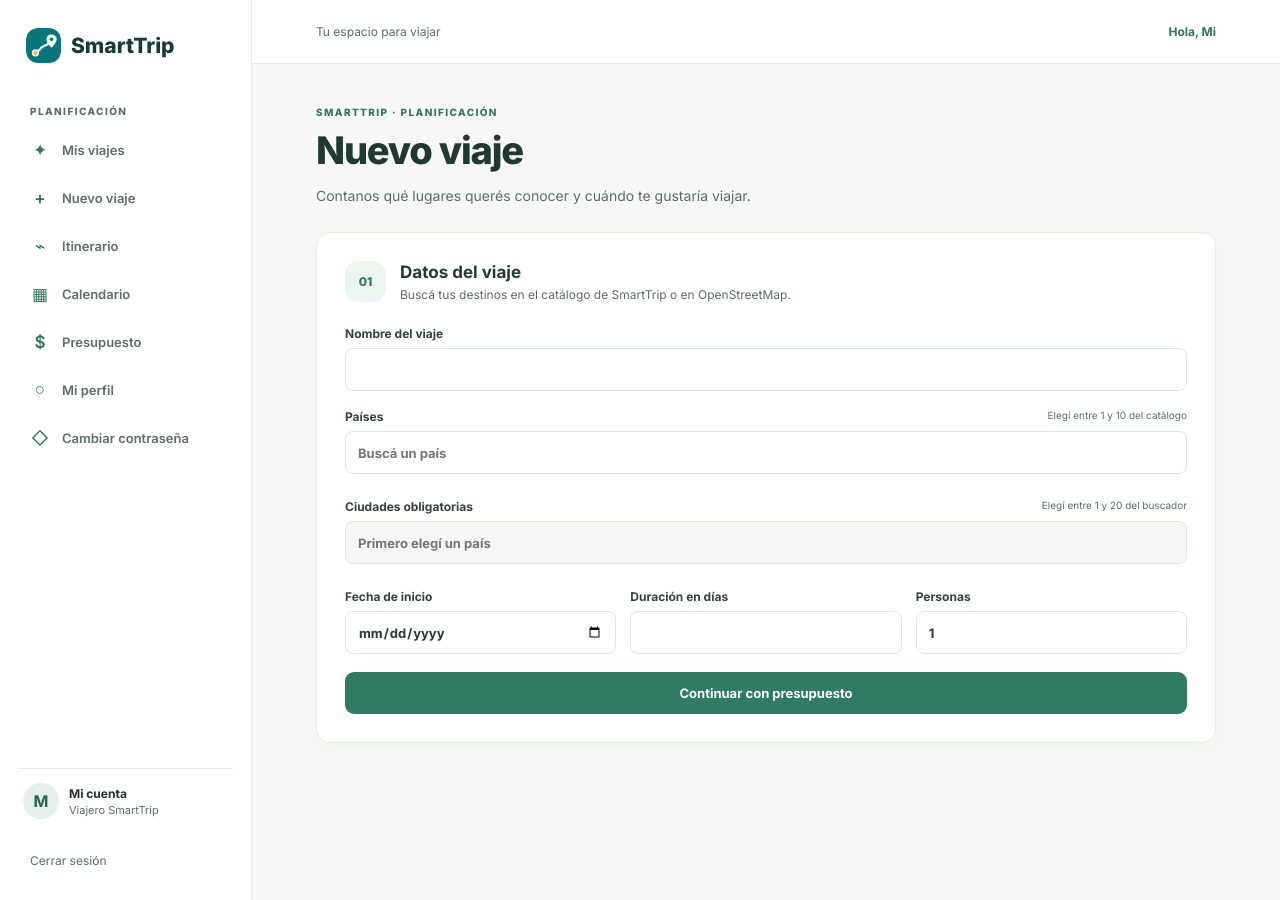
it: NewTrip: validación y creación › no crea un viaje sin países
Type "  Europa  " into the field labelled "Nombre del viaje".
click(766, 370); type("  Europa  ")  # box [345,348,1187,391]
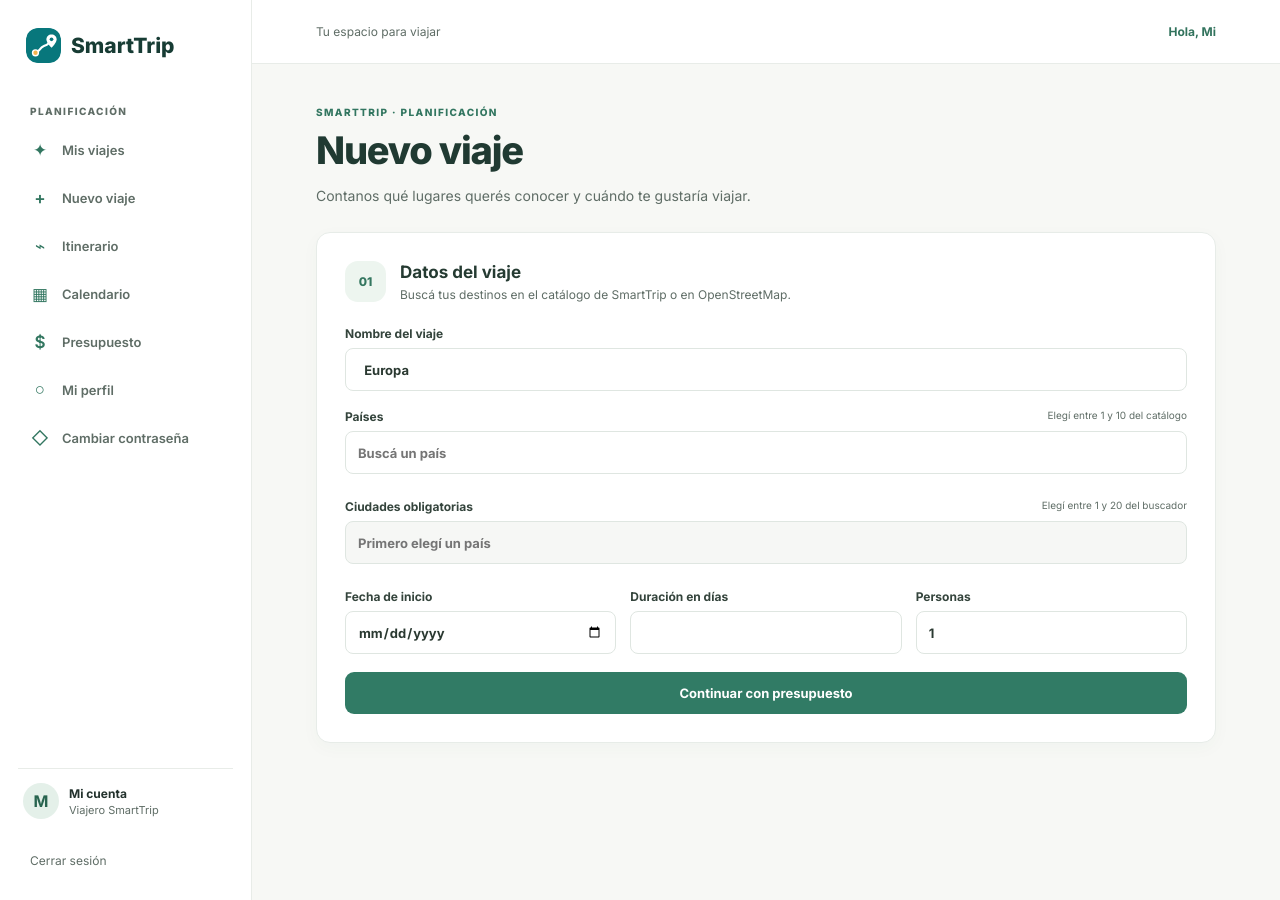
Type "2030-05-01" into the date field labelled "Fecha de inicio".
click(481, 632); type("2030-05-01")  # box [345,611,616,654]
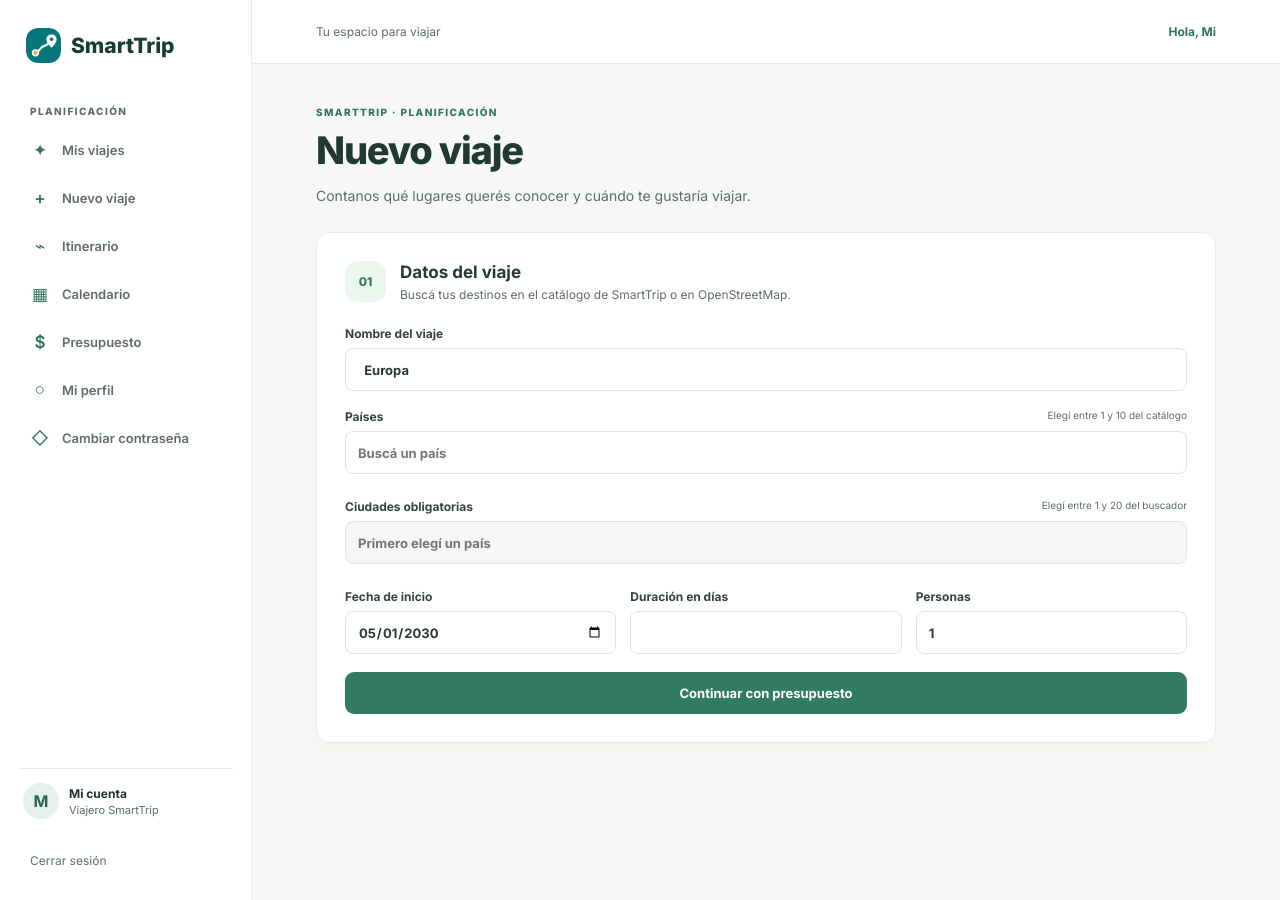
Type "5" into the number field labelled "Duración en días".
click(766, 632); type("5")  # box [630,611,902,654]
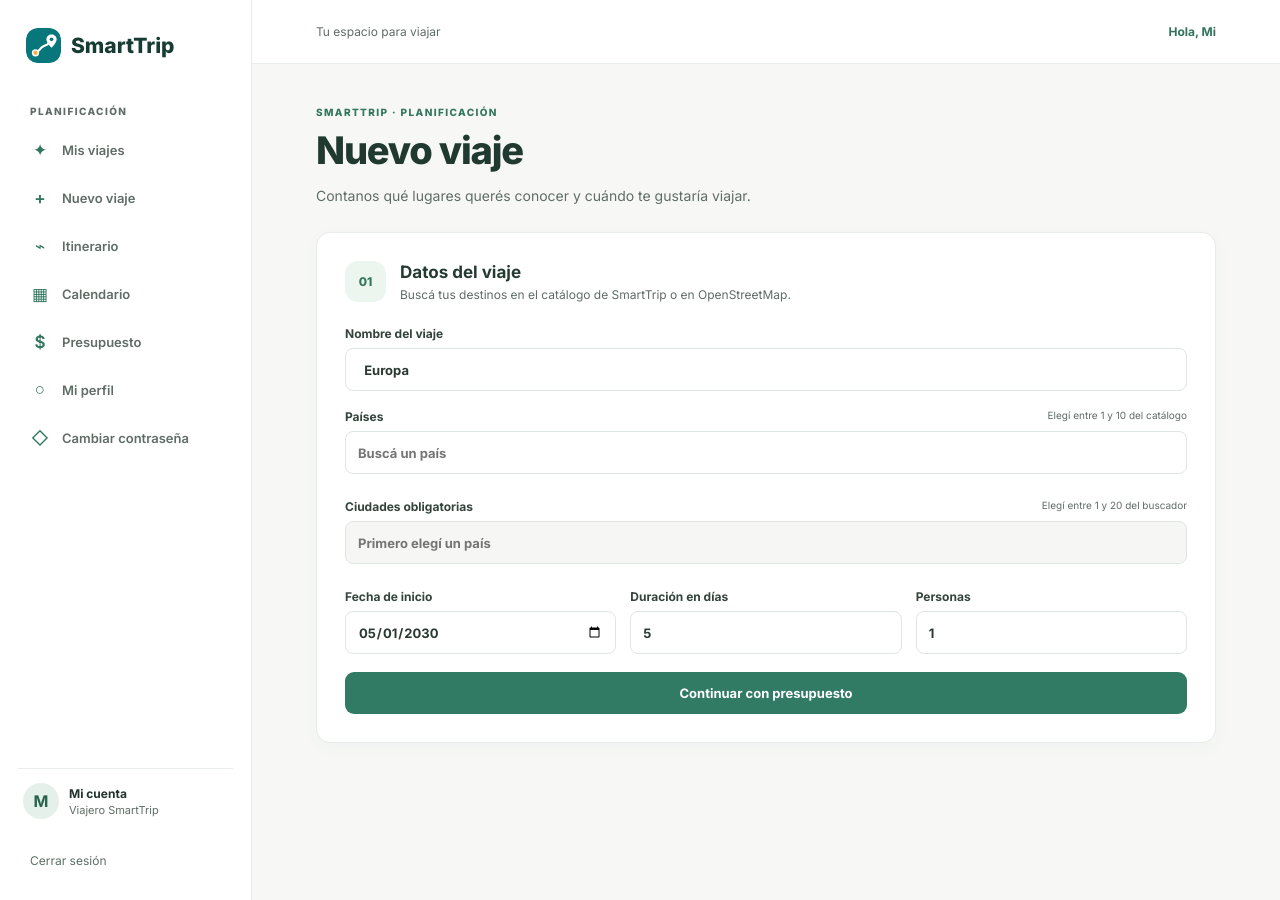
Replace the text in the number field labelled "Personas" with "3" at (1051, 632), box [916,611,1187,654]
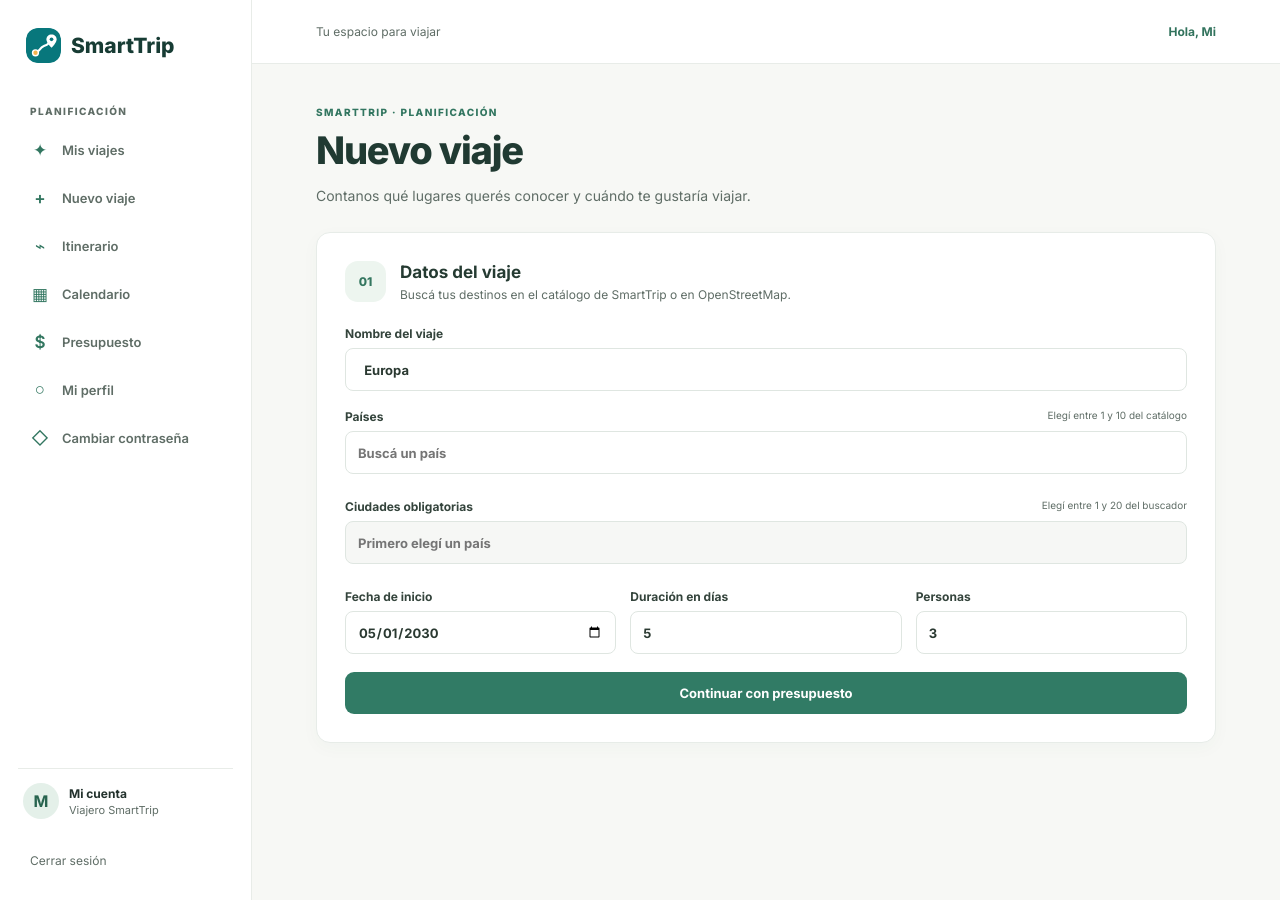
Submit the form with class "trip-form", box [345,326,1187,714]
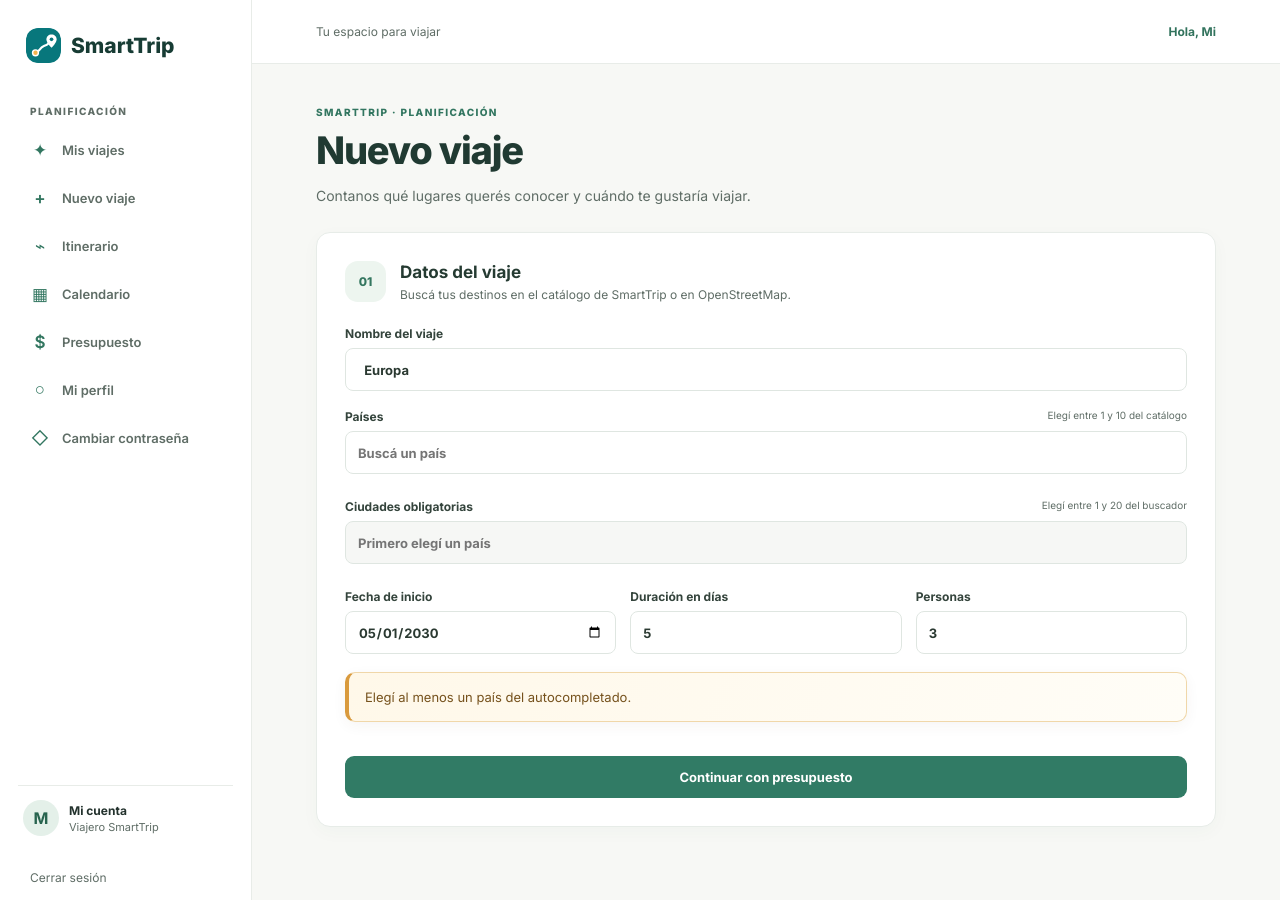
Now the message reads "Elegí al menos un país del autocompletado.", box [365,689,631,705]
